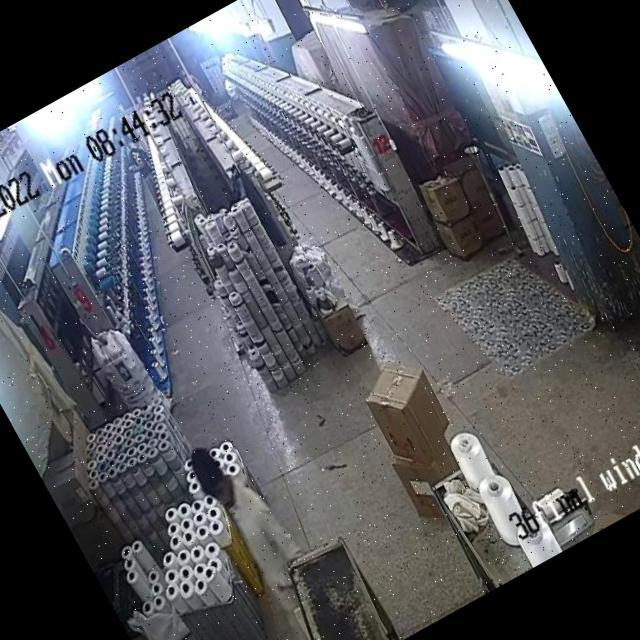person: (187, 428, 302, 580), (124, 141, 166, 198)
